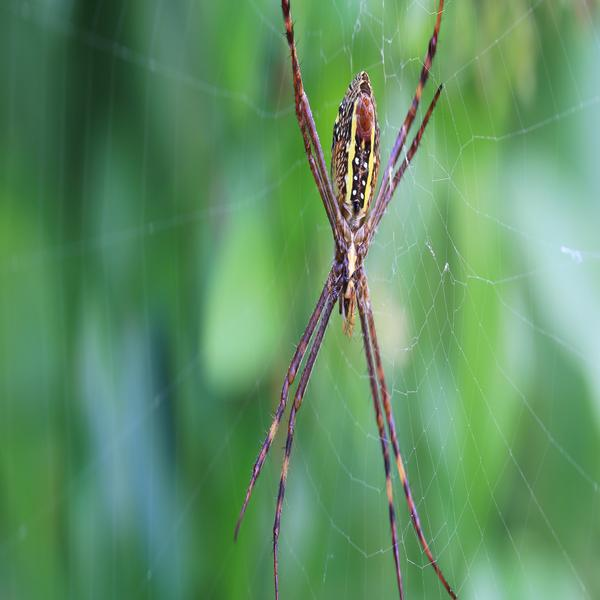St Andrew's Cross Spider: (257, 15, 446, 584)
